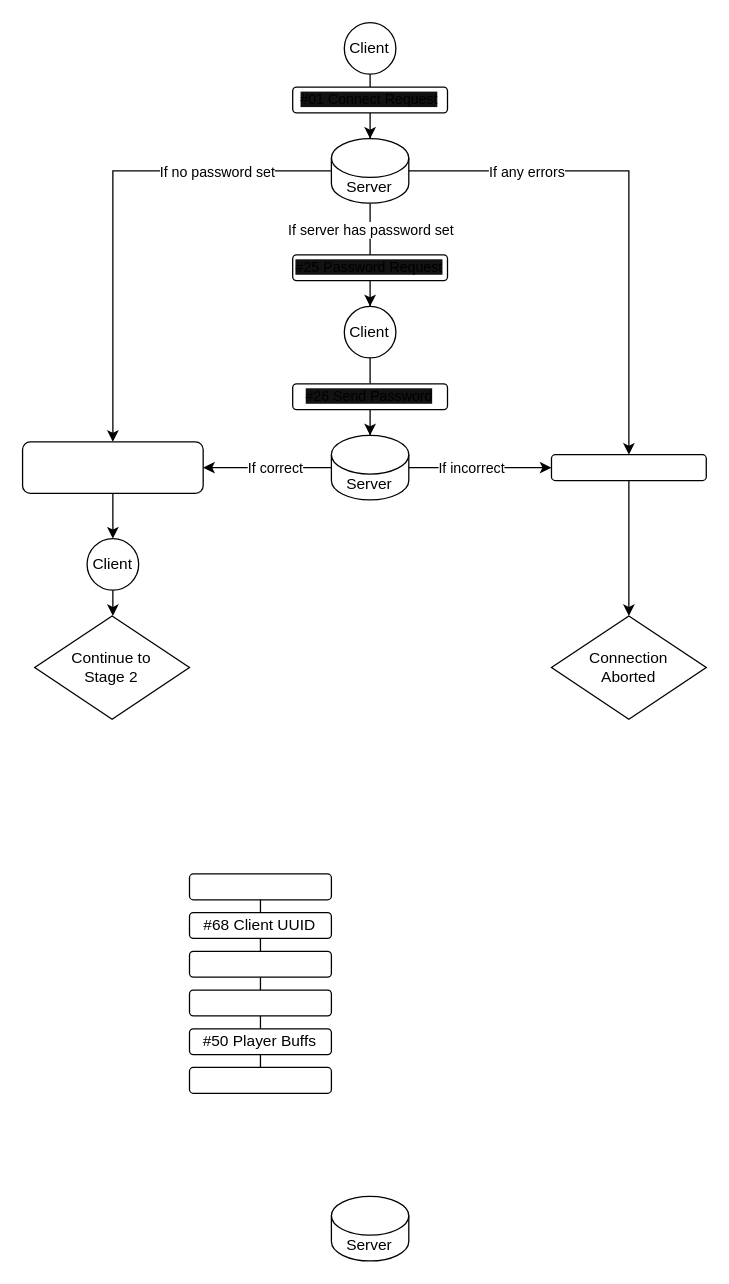
Image size: 729x1284. Some labels were removed from this diagram. Each missing label, with the centre of its shape:
"#02 Fatal Error" belongs at point 628,467.
"#147 Unknown?" belongs at point 259,1079.
"#16 Player HP" belongs at point 259,963.
"#3 Connection Approved & Assign Player Slot" belongs at point 112,467.
"#4 Player Info" belongs at point 259,886.
"#42 Player Mana" belongs at point 259,1002.
